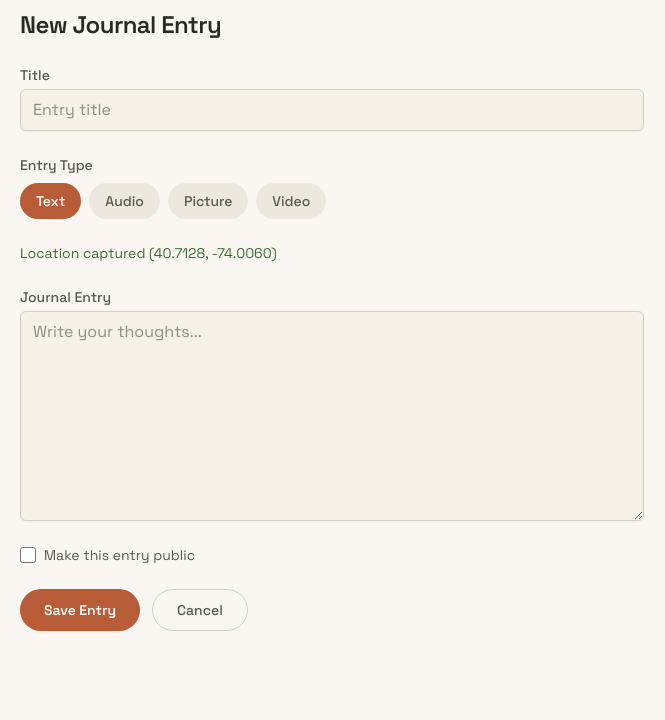
NewEntryPage › shows error when text content is empty for text entry
This screenshot has width=665, height=720.
Type "My Entry" into the field labelled "Title" at (332, 110), box [20,89,644,131]
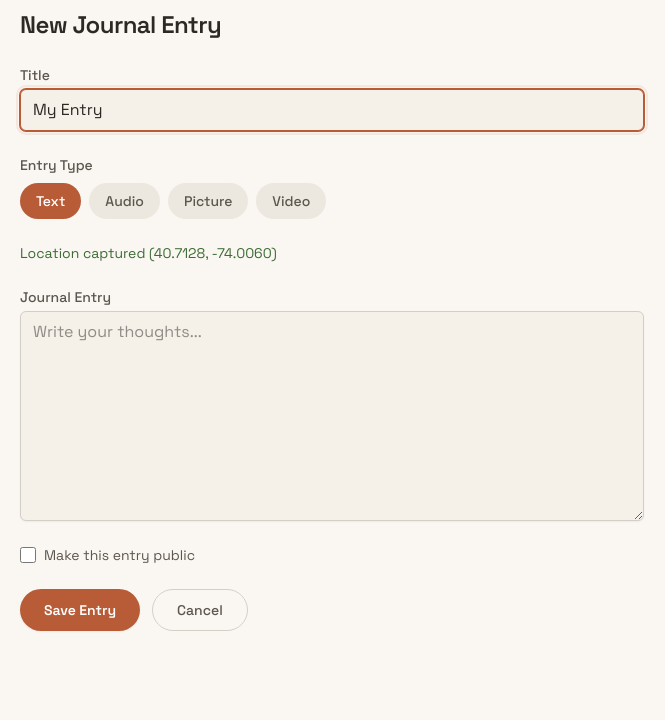
Click the button "Save Entry" at (80, 610), box [20,589,140,631]
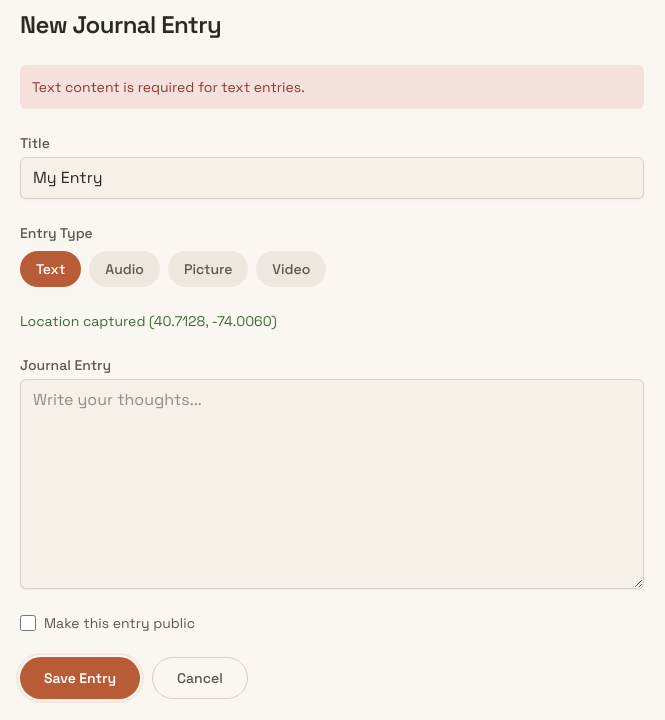
Now the text "Text content is required for text entries." is shown, box [20,65,644,109]
